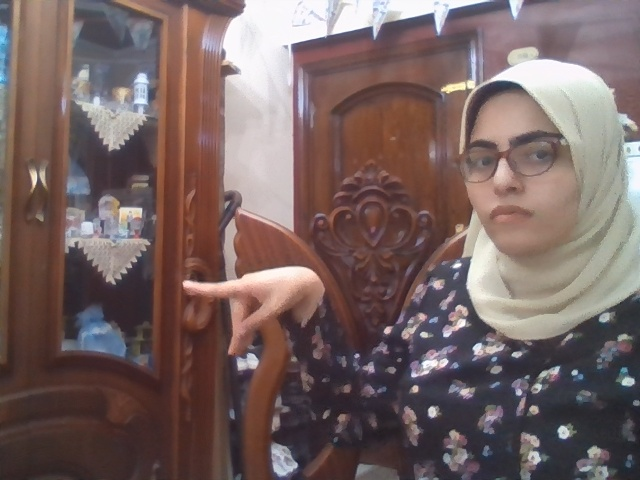P: (183, 265, 322, 355)
